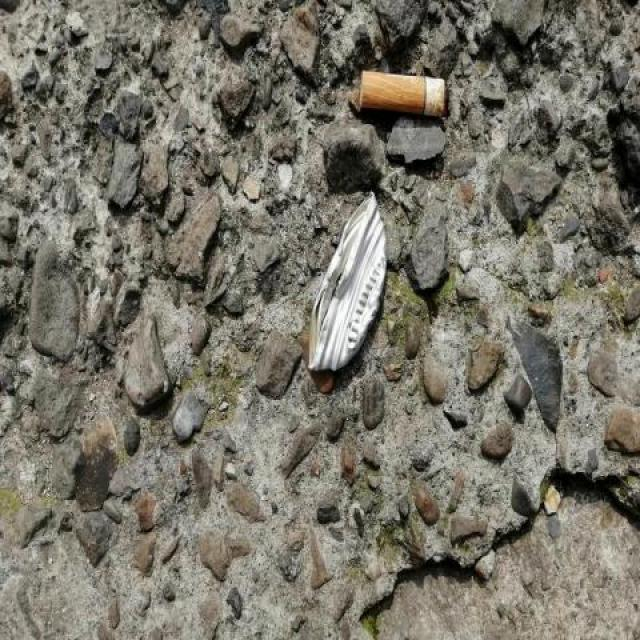non-organic waste: (355, 63, 454, 134)
